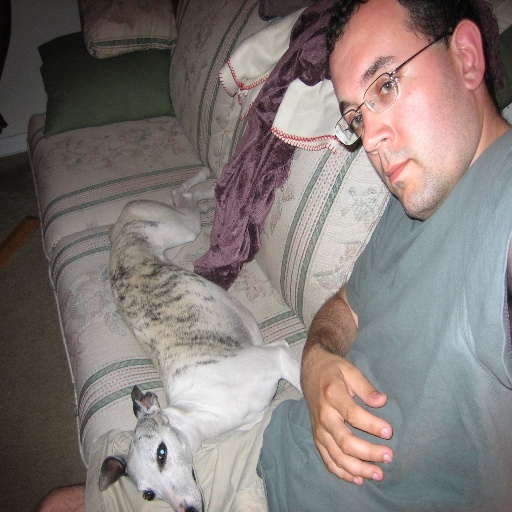hand: (310, 325, 401, 497)
